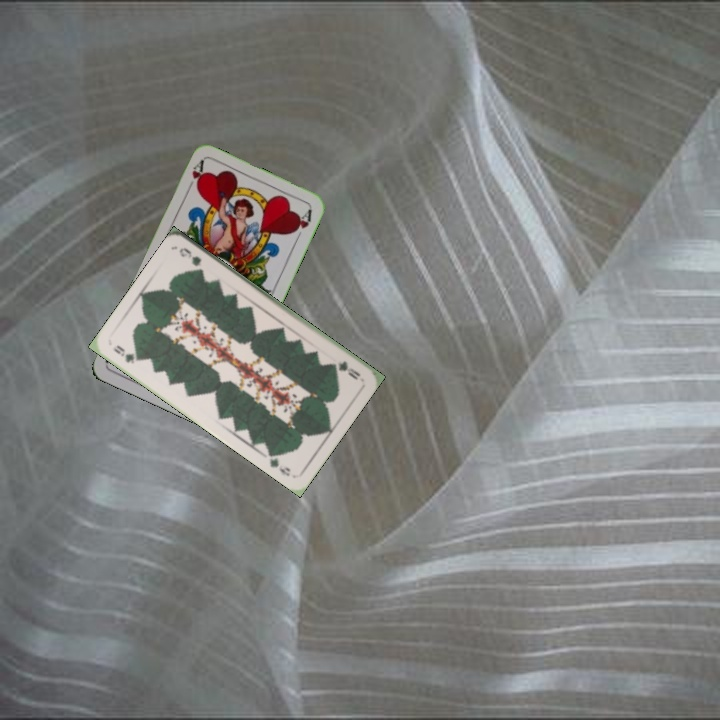G9: (328, 357, 363, 383), (110, 341, 145, 366)
HA: (183, 157, 206, 195)
